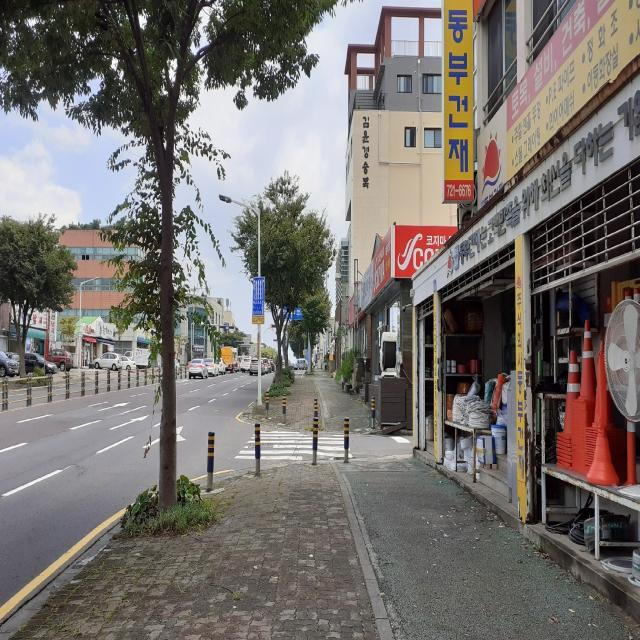횡단보도: (233, 429, 353, 461)
